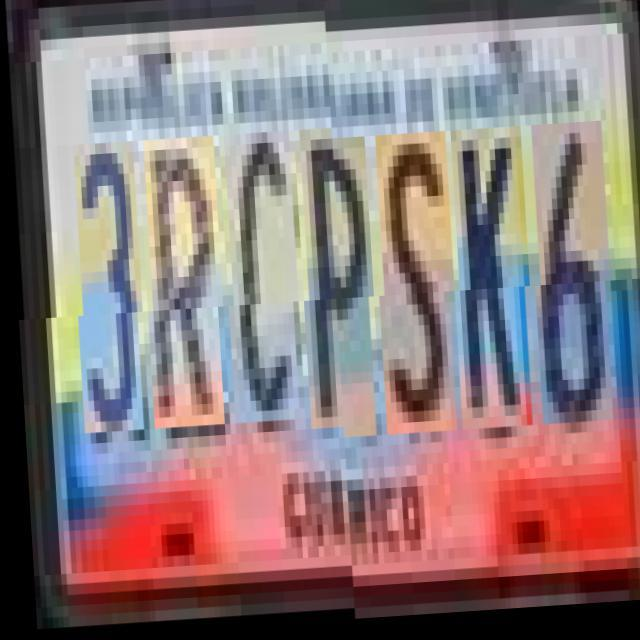3: (72, 153, 144, 444)
6: (529, 130, 613, 432)
C: (222, 146, 300, 437)
K: (448, 134, 532, 436)
P: (298, 142, 376, 444)
R: (142, 149, 225, 441)
S: (373, 138, 457, 440)
